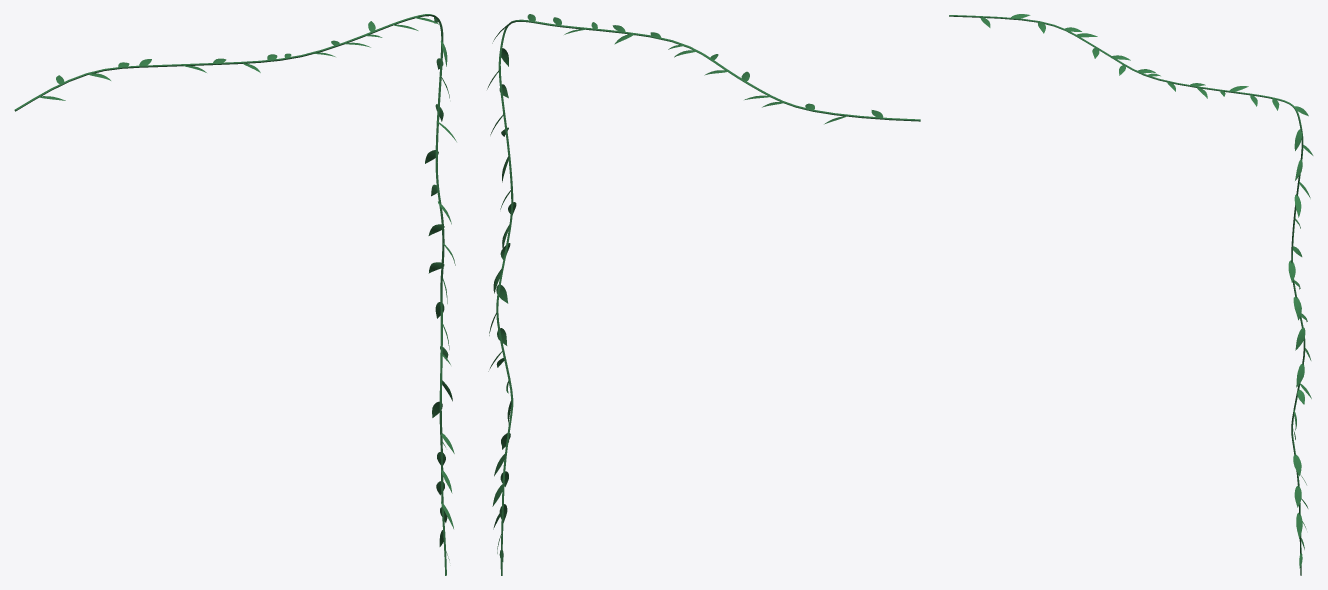
File: vine_A_scanden.fbx
3 renders of one model, left to right at view 1: azimuth 30°, elevation 25°; view 2: azimuth 150°, elevation 25°; view 3: azimuth 330°, elevation 25°, orthographic. The views are drawn at different scales.
Visible parts, largest first — view 1: vine_A_scanden_A_root; view 2: vine_A_scanden_A_root; view 3: vine_A_scanden_A_root.
Boxes of the visible parts, <box> form: vine_A_scanden_A_root: <box>14,14,446,575</box>; vine_A_scanden_A_root: <box>496,19,920,575</box>; vine_A_scanden_A_root: <box>949,15,1305,575</box>.
Bounding box in the file's own units: 400 × 500 × 82.
